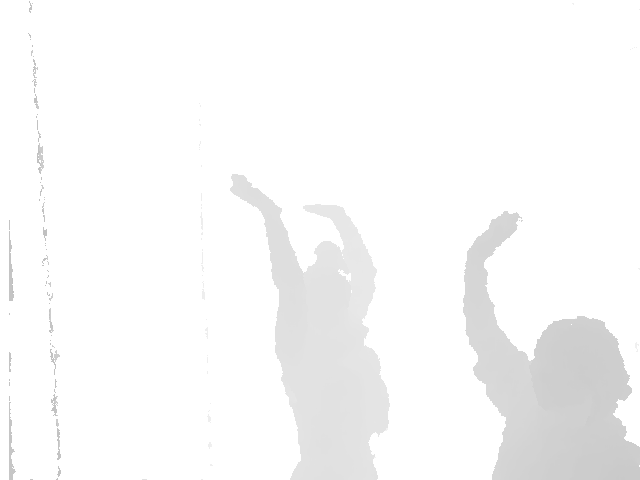hand: (461, 210, 527, 257), (225, 166, 283, 218), (303, 197, 348, 224)
head: (530, 315, 632, 420), (300, 242, 356, 324)
person: (225, 165, 395, 480), (458, 205, 640, 475)
